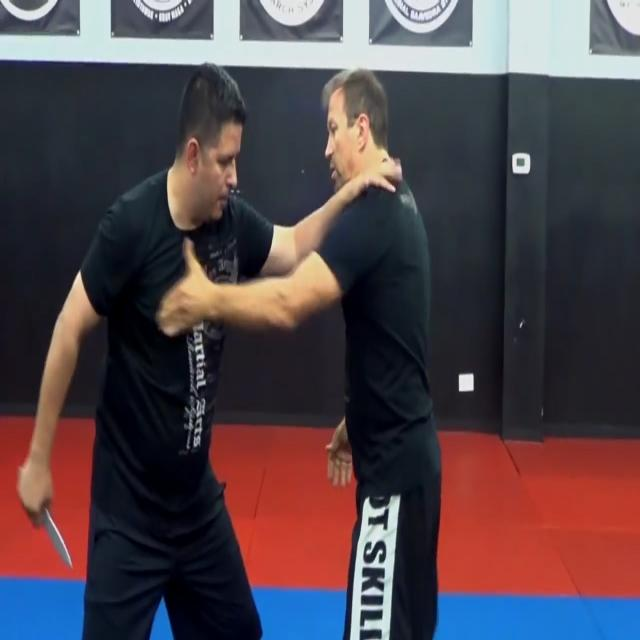knife: (39, 505, 75, 573)
